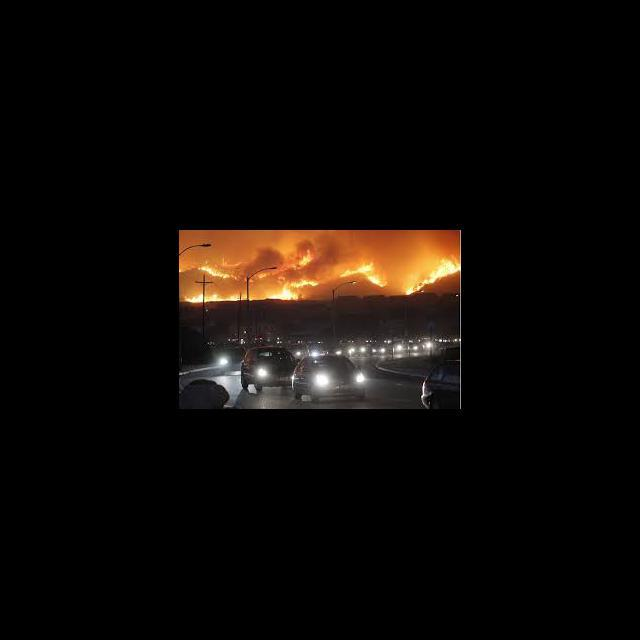Fire: (405, 252, 460, 296), (262, 277, 320, 301), (340, 262, 390, 288), (192, 260, 238, 282), (184, 290, 252, 304), (297, 250, 316, 269)
